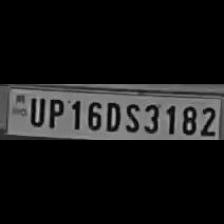1: (66, 98, 82, 130), (161, 102, 177, 134)
2: (198, 104, 216, 136)
3: (140, 100, 160, 134)
6: (82, 98, 102, 132)
8: (178, 102, 198, 134)
D: (102, 100, 122, 132)
P: (44, 96, 64, 128)
S: (122, 100, 142, 132)
U: (26, 95, 44, 127)
